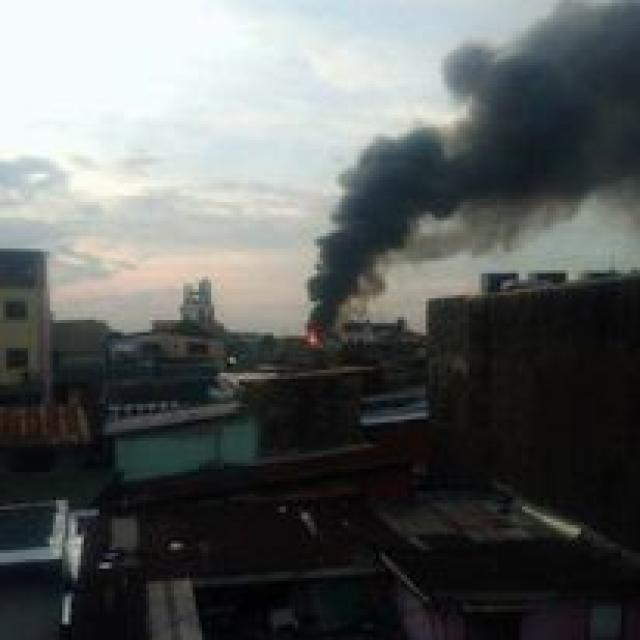Fire: (304, 326, 322, 348)
Smoke: (304, 0, 640, 331)
